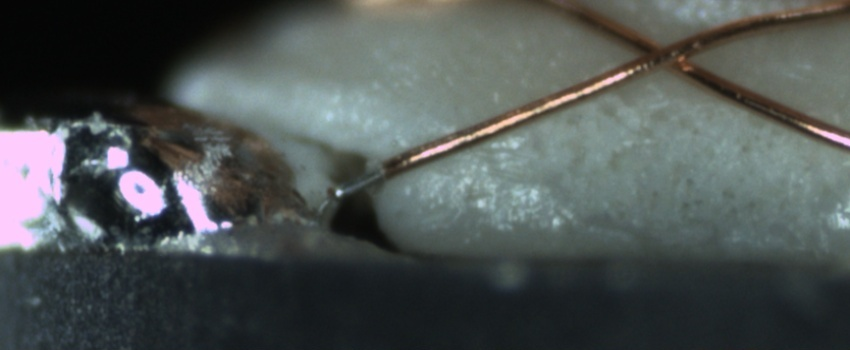CL: (616, 27, 710, 82)
TS: (335, 166, 383, 199)
TTCW: (327, 135, 446, 202)
